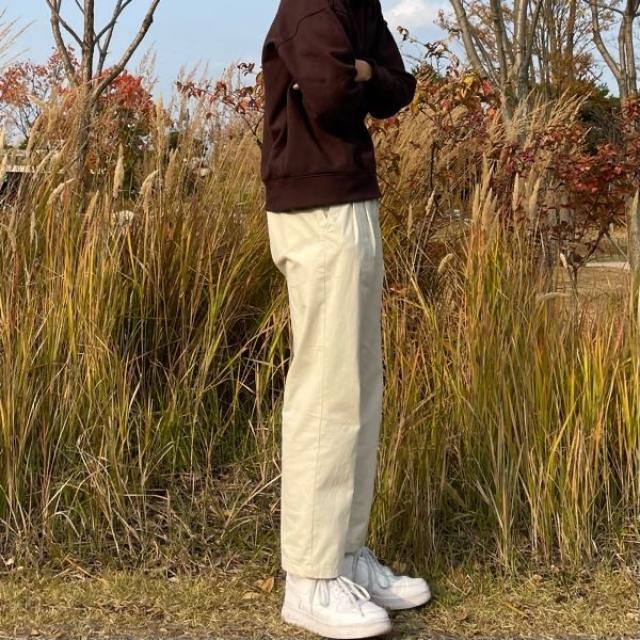cottonpants: (262, 201, 382, 584)
mtm: (262, 0, 419, 215)
